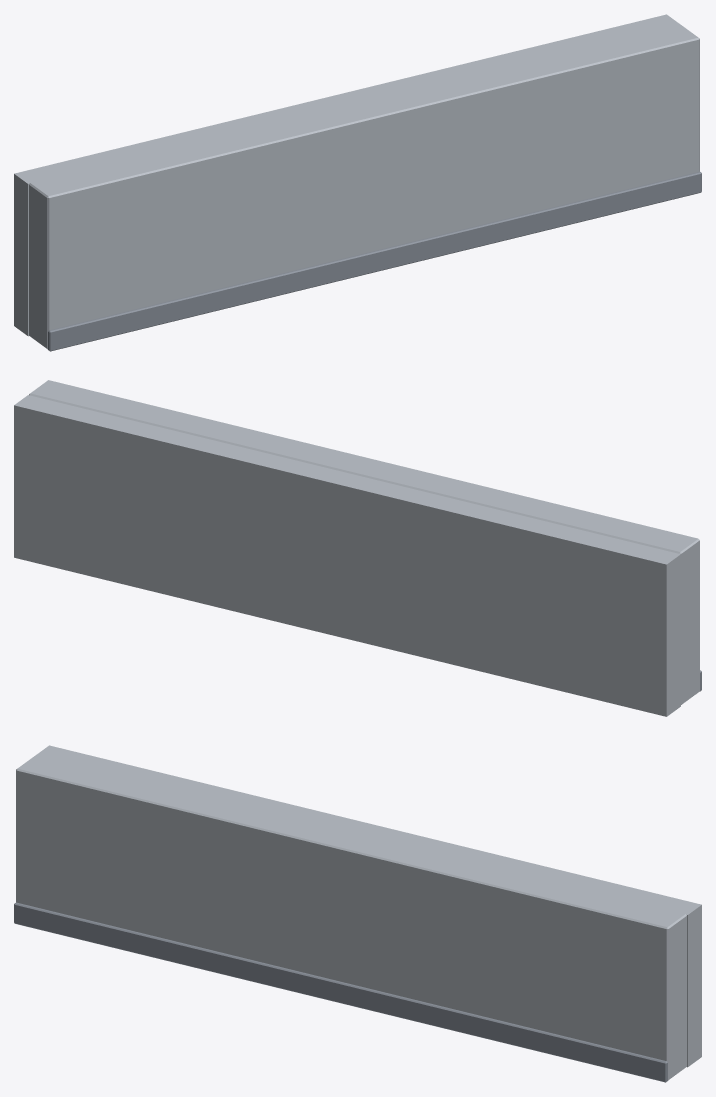
File: soco_h45_2m.glb
3 views of the same model, one above another, from view 1: azimuth 30°, elevation 25°; view 2: azimuth 150°, elevation 25°; view 3: azimuth 330°, elevation 25° (orthographic).
Visible parts, largest first — view 1: soco_h45_2m; view 2: soco_h45_2m; view 3: soco_h45_2m.
Part boxes in pixels (x1=…): soco_h45_2m: x1=14, y1=14, x2=701, y2=351; soco_h45_2m: x1=14, y1=380, x2=701, y2=716; soco_h45_2m: x1=14, y1=745, x2=701, y2=1082.
Size of the model in its own units: 2 by 0.45 by 0.19.
Materials: 1 (1 with a texture image).
